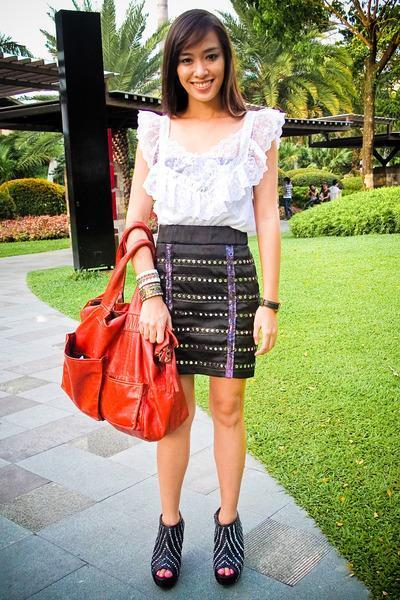bag: (61, 245, 190, 441)
pants: (218, 567, 233, 574)
shirt: (135, 108, 287, 236)
shoe: (151, 511, 243, 588)
skirt: (132, 224, 259, 378)
